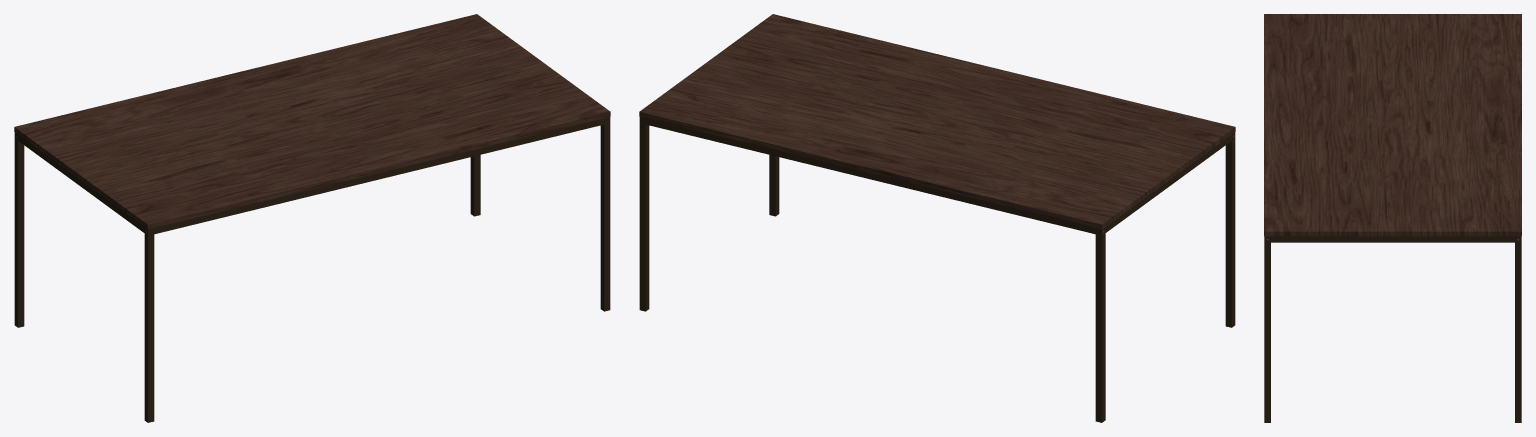
Rendered from office_table.glb.
3 views of the same model, side by side, from view 1: azimuth 30°, elevation 25°; view 2: azimuth 150°, elevation 25°; view 3: azimuth 270°, elevation 25° (orthographic). The views are drawn at different scales.
Parts seen in each view (by area): view 1: Cube_Material.001_0; view 2: Cube_Material.001_0; view 3: Cube_Material.001_0.
Part boxes in pixels (x1,y1,x2,y2): Cube_Material.001_0: (14, 14, 610, 422); Cube_Material.001_0: (639, 14, 1235, 422); Cube_Material.001_0: (1264, 14, 1521, 422).
Bounding box in the file's own units: 150 × 61.5 × 75.08.
Materials: 1 (1 with a texture image).
